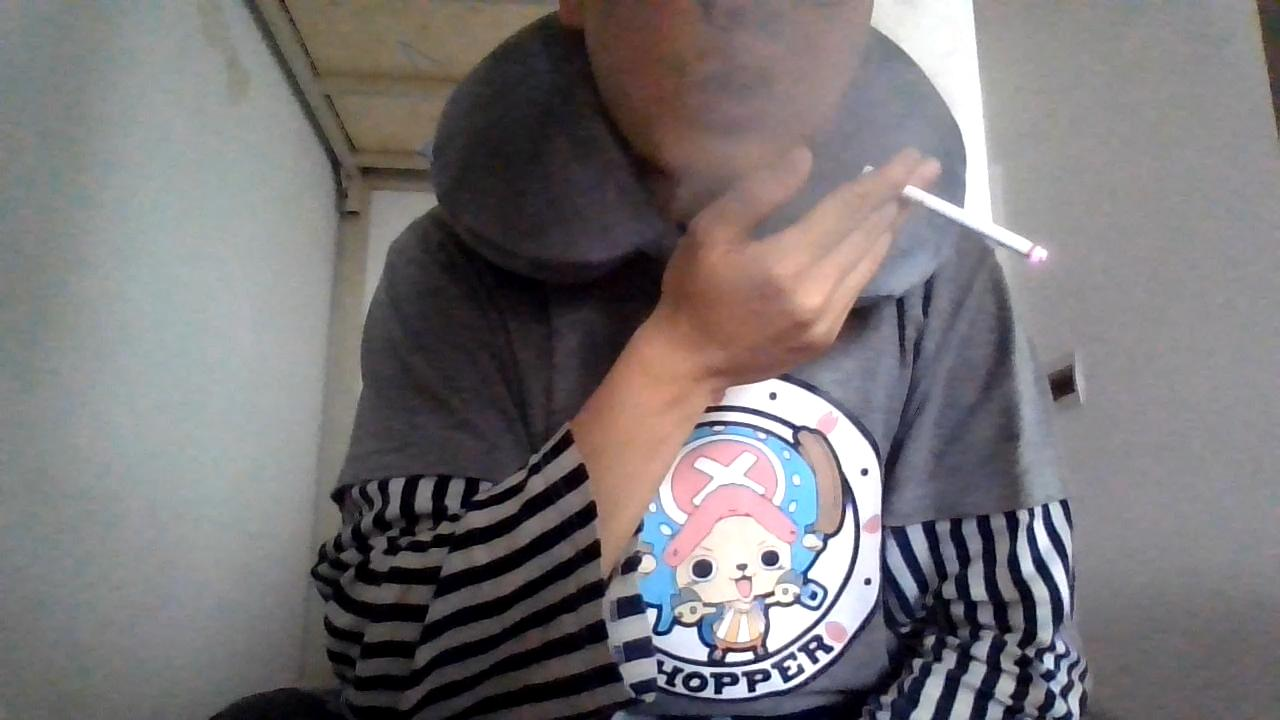yanwu: (666, 46, 969, 254)
